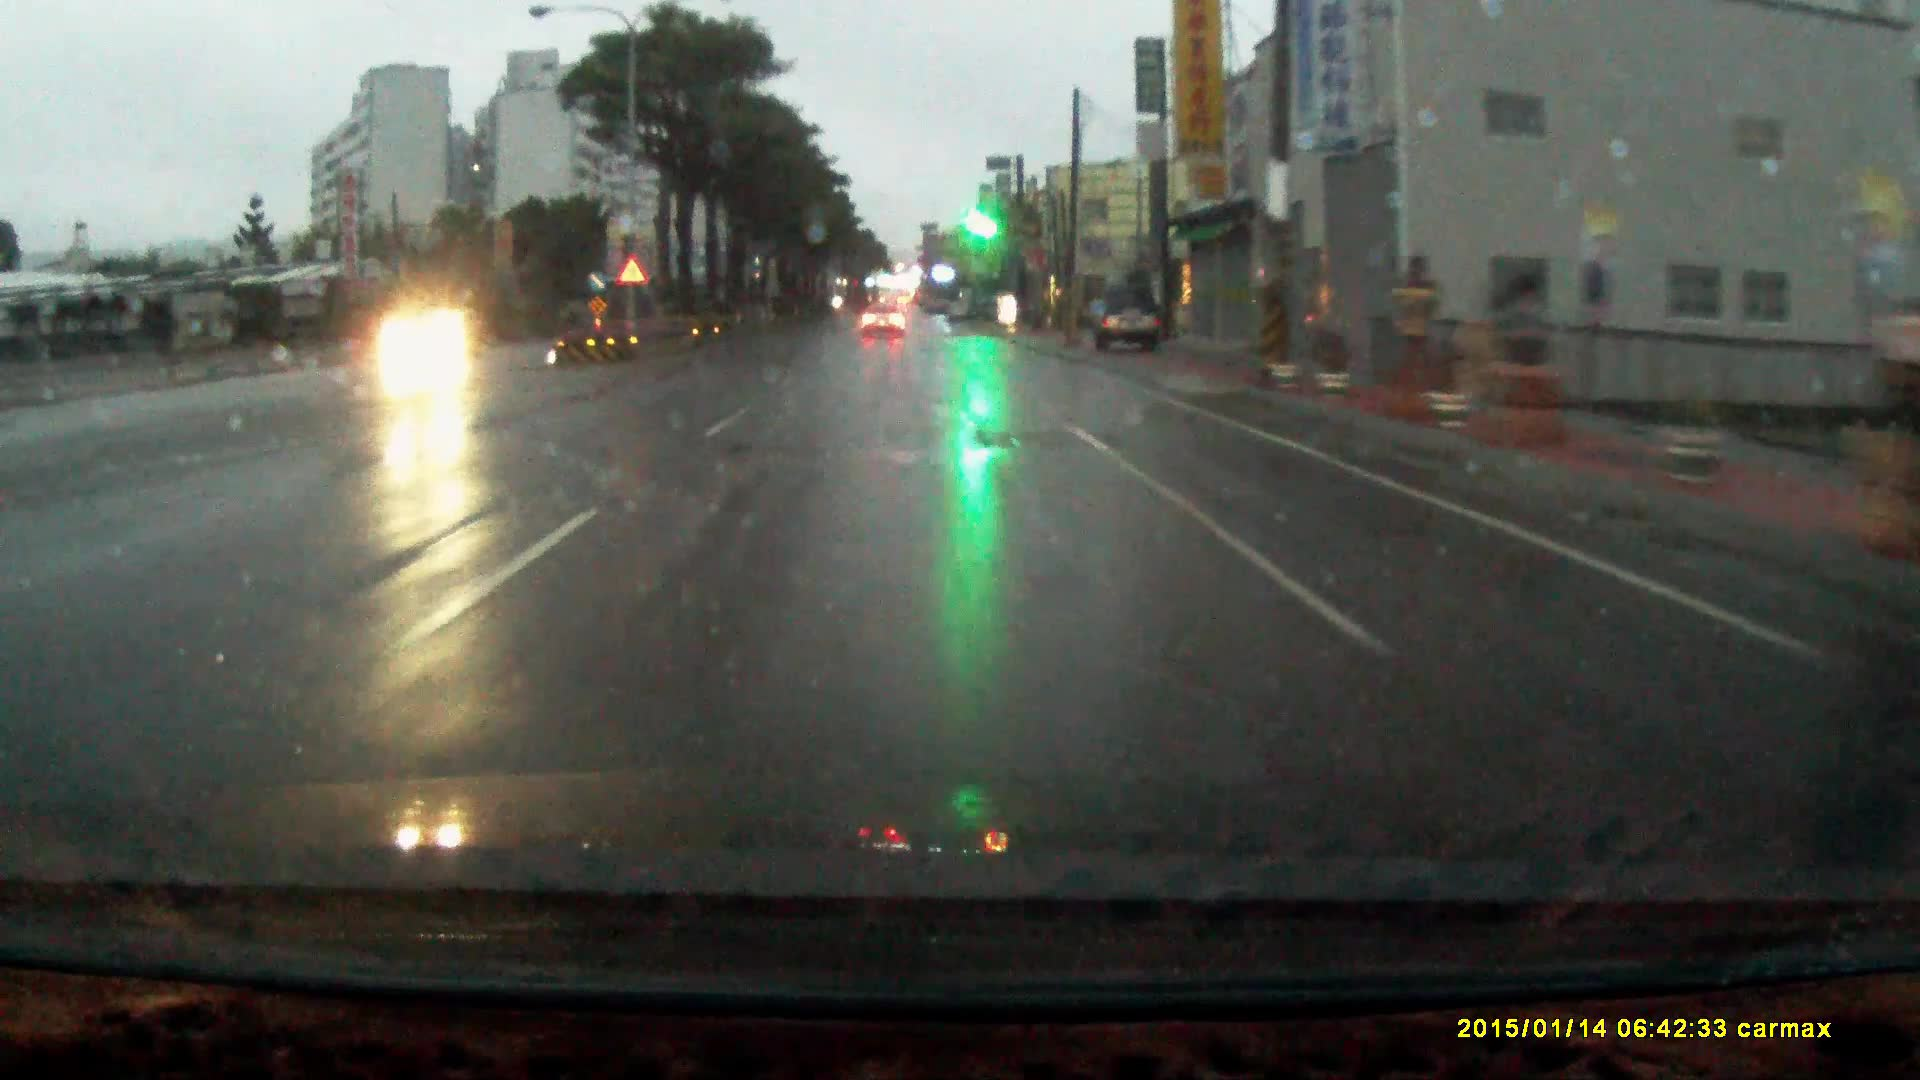vehicle: (1093, 282, 1164, 351), (861, 302, 909, 339)
